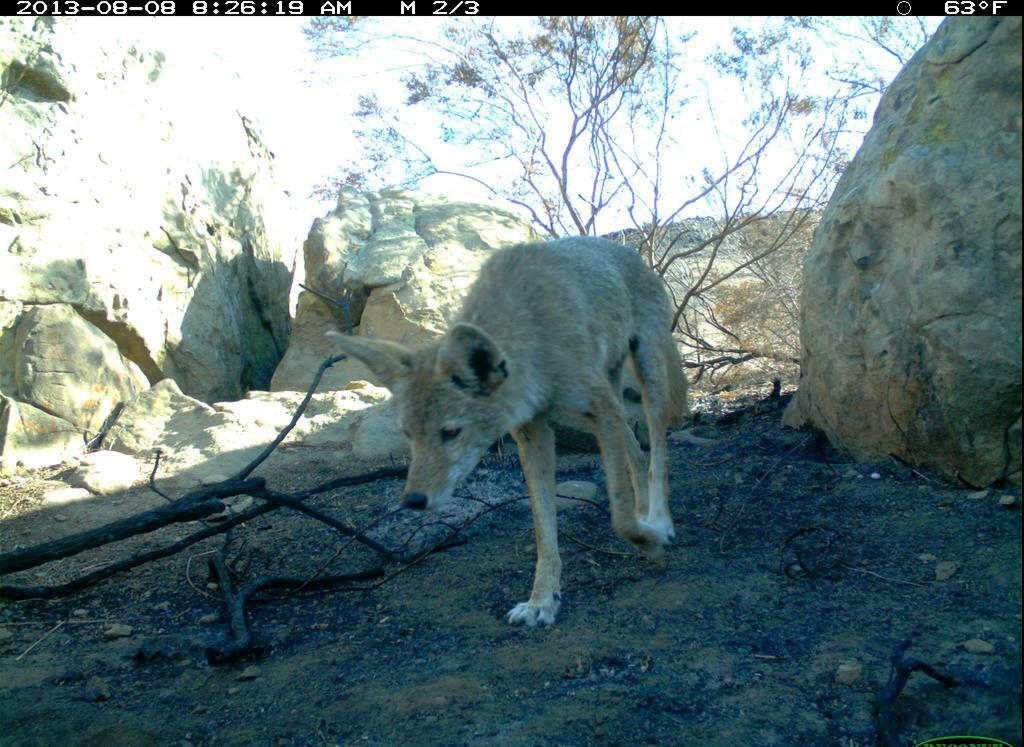coyote: (326, 232, 703, 630)
